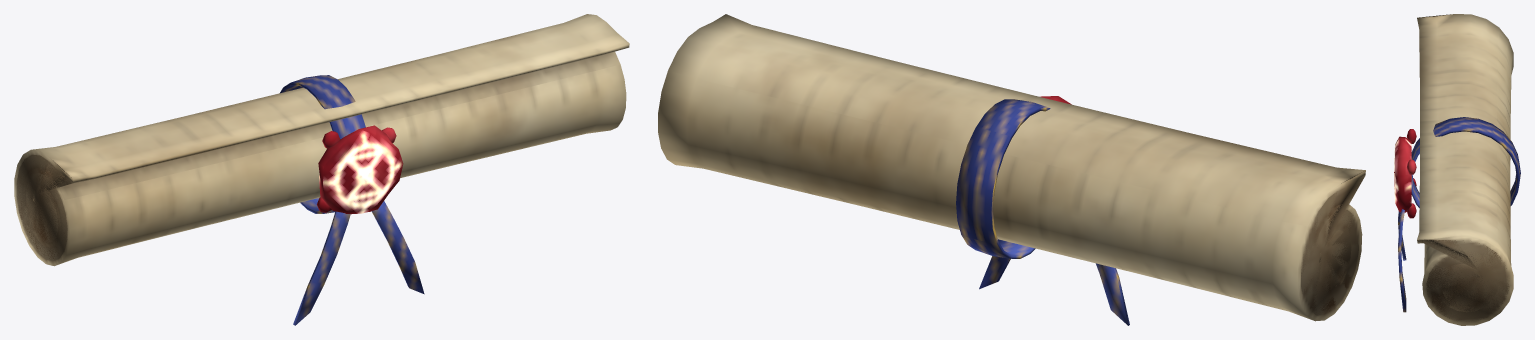
File: Scroll.fbx
3 views of the same model, side by side, from view 1: azimuth 30°, elevation 25°; view 2: azimuth 150°, elevation 25°; view 3: azimuth 270°, elevation 25° (orthographic). The views are drawn at different scales.
Parts seen in each view (by area): view 1: Scroll; view 2: Scroll; view 3: Scroll.
Boxes of the visible parts, left/top/right/bottom form: Scroll: left=14, top=14, right=629, bottom=325; Scroll: left=658, top=14, right=1365, bottom=325; Scroll: left=1394, top=14, right=1520, bottom=325.
Bounding box in the file's own units: 0.35 × 0.1208 × 0.0845.
